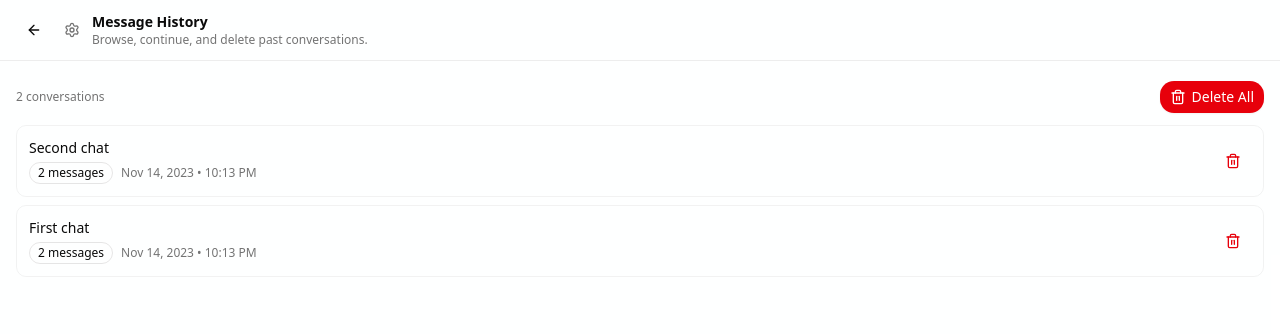
Test: Toggle Settings → Message History › navigation › clicking a conversation opens its read-only detail view
Click the text "Second chat": (69, 148) top-left (29, 138), bottom-right (109, 157)
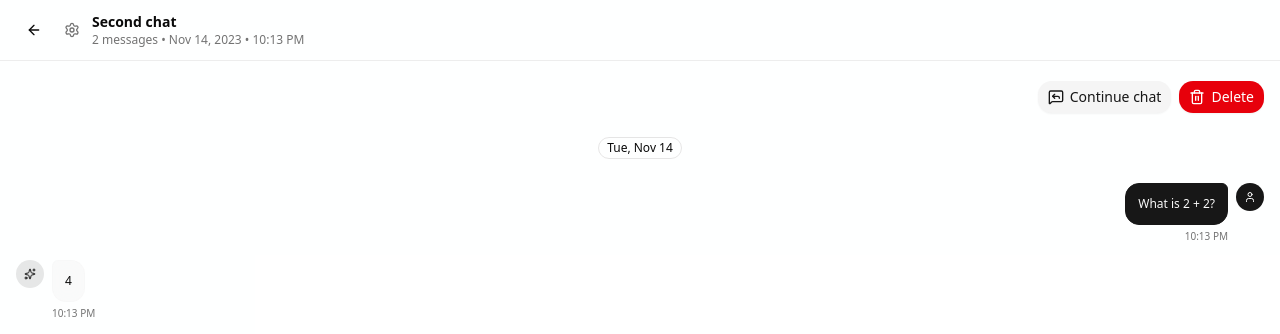
Check: the text "What is 2 + 2?" is shown, box top-left (1138, 196), bottom-right (1215, 212)
Check: the text "4" is shown, box top-left (65, 273), bottom-right (72, 289)
Check: the heading "Second chat" is shown, box top-left (92, 12), bottom-right (176, 31)
